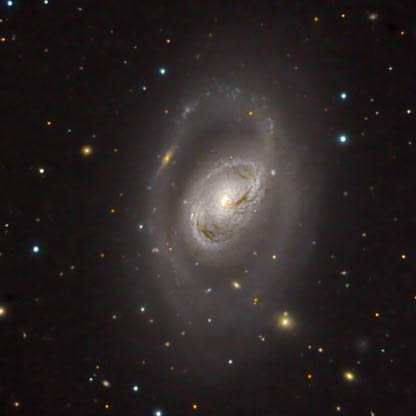Messier 96: (116, 50, 320, 353)
